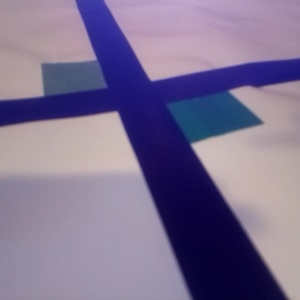bottom_right: (113, 99, 247, 171)
top_right: (117, 71, 220, 119)
